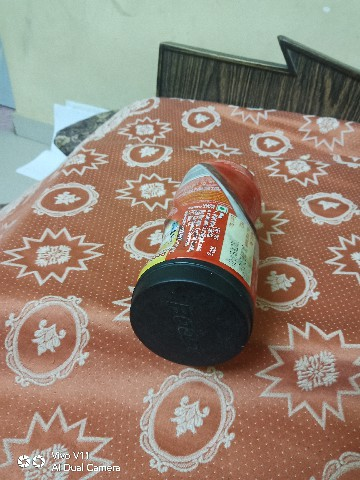boost big: (123, 131, 269, 364)
